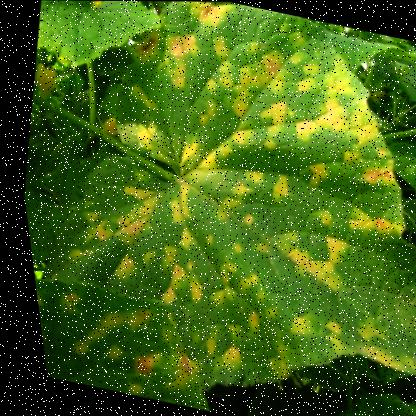DownyMildew: (83, 93, 286, 265), (246, 31, 415, 212), (27, 270, 206, 408), (127, 1, 307, 120), (173, 258, 311, 388), (263, 211, 362, 301)
